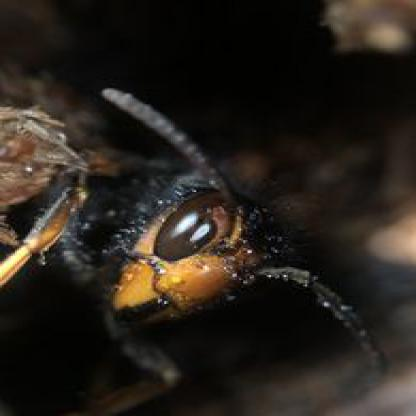Asian Hornet: (5, 83, 394, 395)
